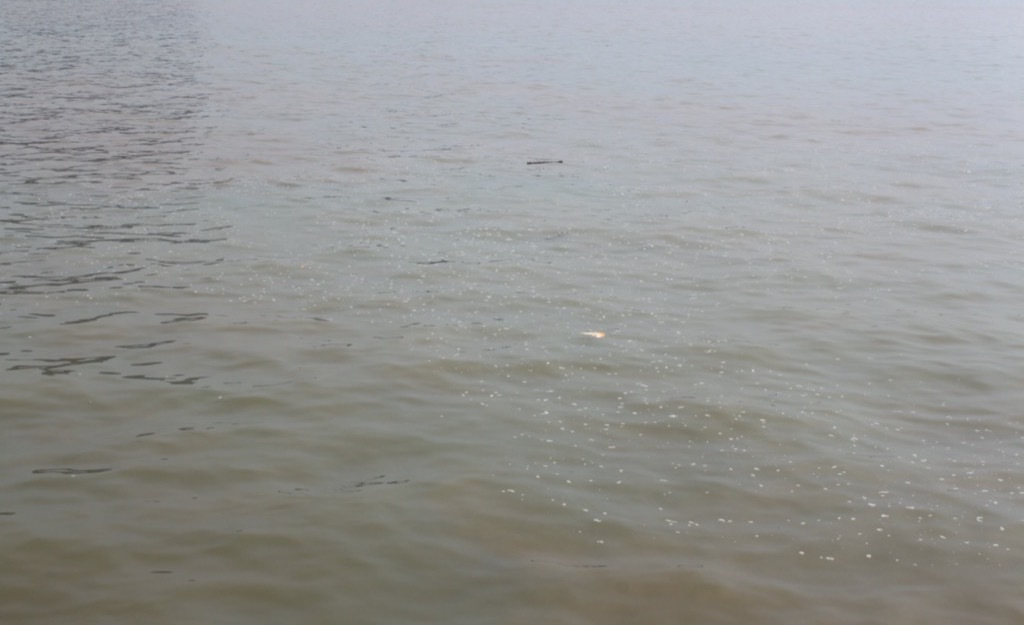organic: (517, 146, 576, 176)
plastic: (576, 325, 610, 344)
